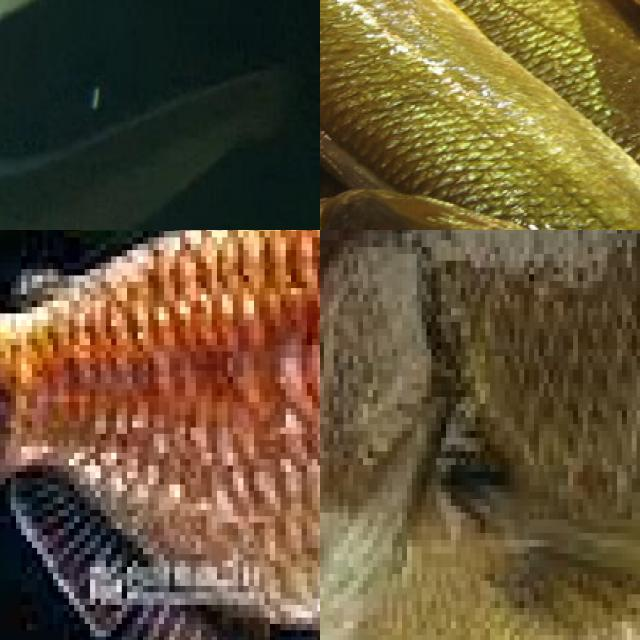fish: (0, 230, 320, 640), (0, 0, 320, 230), (320, 0, 640, 230)
